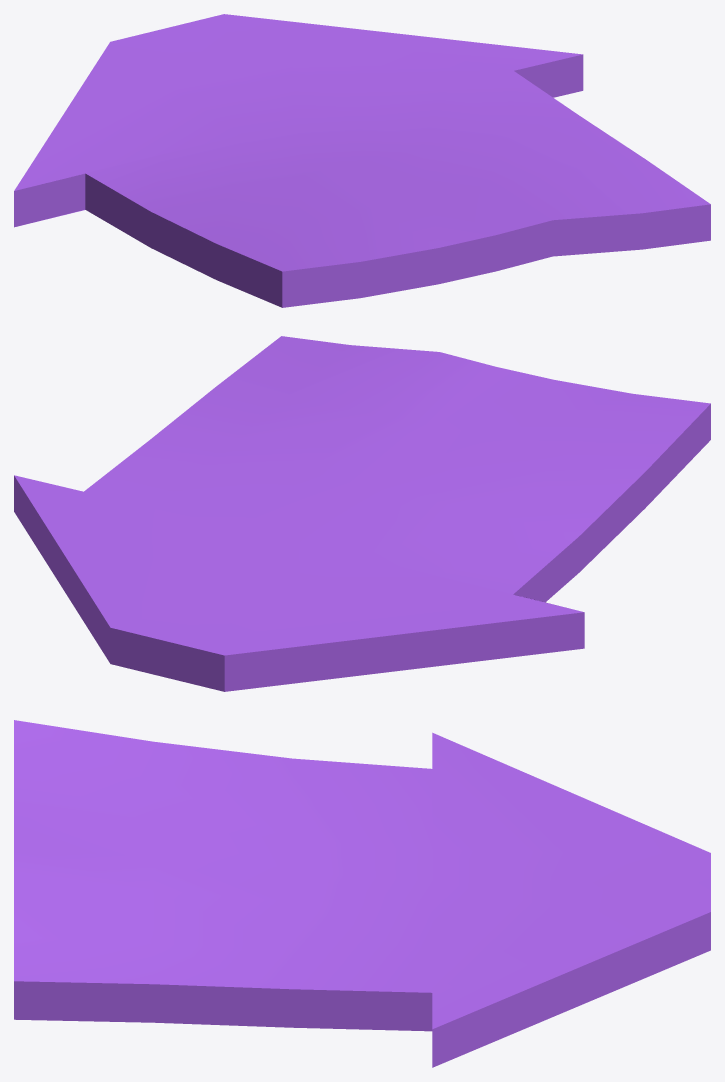
The model's file is post-house-2.fbx.
3 renders of one model, top to bottom at view 1: azimuth 30°, elevation 25°; view 2: azimuth 150°, elevation 25°; view 3: azimuth 270°, elevation 25°, orthographic. The views are drawn at different scales.
Visible parts, largest first — view 1: Plane.004; view 2: Plane.004; view 3: Plane.004.
Part boxes in pixels (x1=…): Plane.004: x1=14, y1=14, x2=710, y2=307; Plane.004: x1=14, y1=336, x2=710, y2=691; Plane.004: x1=14, y1=720, x2=710, y2=1067.
Size of the model in its own units: 200 by 28.66 by 200.
